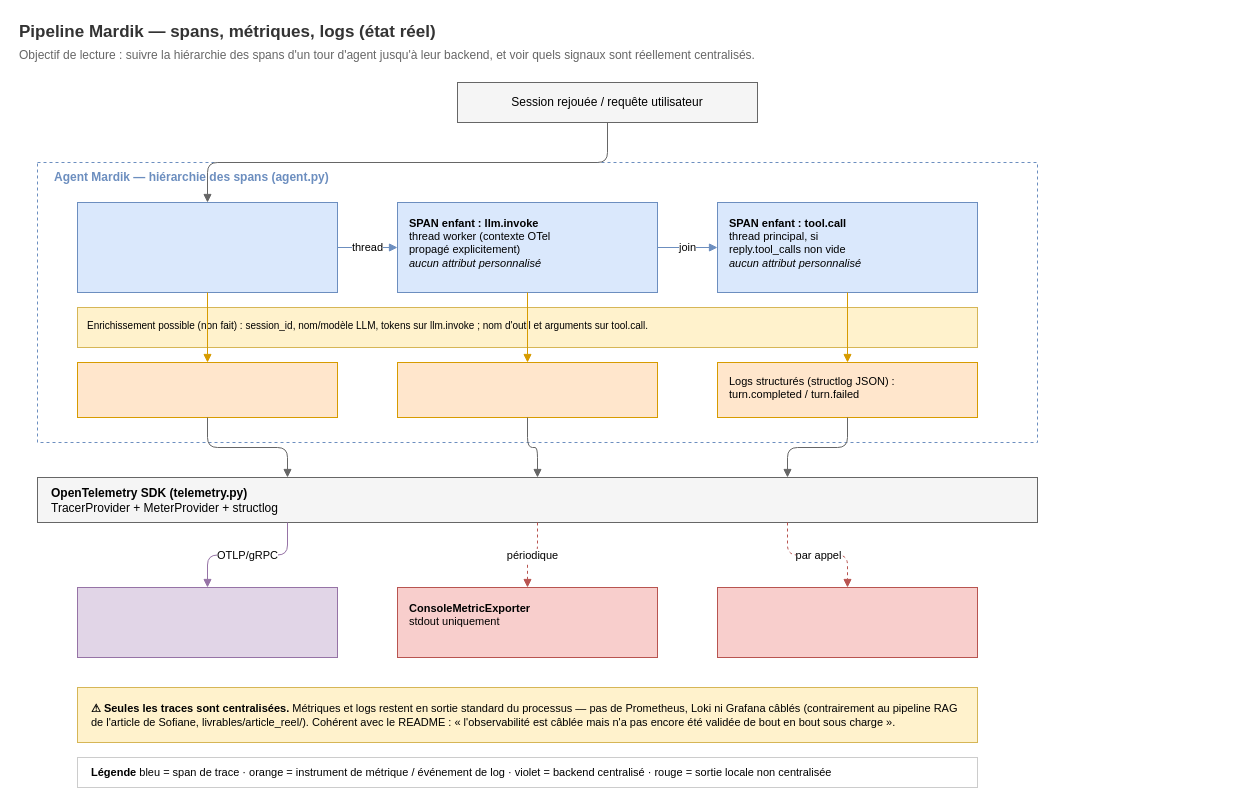
This 1234x805 diagram has some shape labels left out. Here are the shapes that lost their labels. From the top down, the box of each, then its label:
(76, 202, 338, 292): SPAN racine : agent.turn thread principal aucun attribut personnalisé
(76, 362, 338, 418): Métrique : latency_ms (histogramme) attribut session_id
(396, 362, 658, 418): Métrique : errors_total (compteur) attributs session_id, error.type
(76, 586, 338, 658): Jaeger all-in-one collecteur OTLP/gRPC (:4317) + UI de traces (:16686)
(716, 586, 978, 658): JSONRenderer (structlog) stdout uniquement
